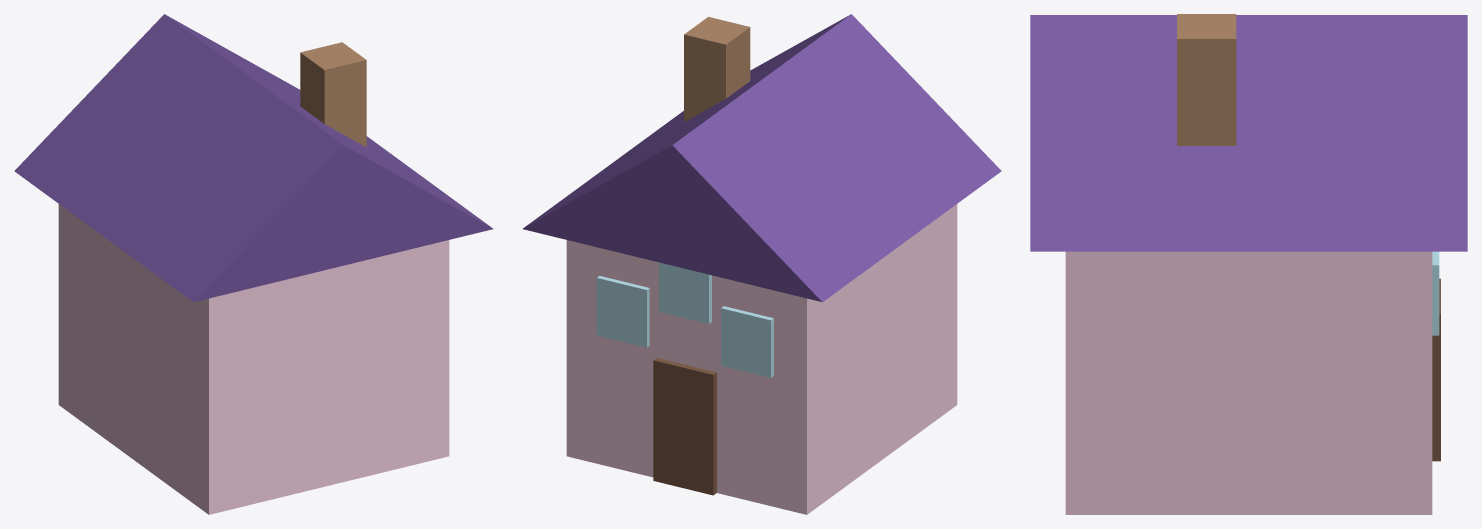
The model's file is house-c.glb.
3 renders of one model, left to right at view 1: azimuth 30°, elevation 25°; view 2: azimuth 150°, elevation 25°; view 3: azimuth 270°, elevation 25°, orthographic. The views are drawn at different scales.
Visible parts, largest first — view 1: walls, roof, chimney; view 2: roof, walls, door, chimney, winR, winL, winTop; view 3: walls, roof, chimney, door, winR.
Part boxes in pixels (x1,y1,x2,y2): walls: [58, 204, 449, 514]; roof: [14, 14, 493, 302]; chimney: [300, 42, 366, 147]; roof: [522, 14, 1001, 302]; walls: [566, 204, 957, 514]; door: [653, 358, 716, 495]; chimney: [684, 17, 750, 121]; winR: [596, 276, 649, 347]; winL: [721, 306, 773, 377]; winTop: [659, 262, 711, 323]; walls: [1065, 251, 1432, 514]; roof: [1030, 15, 1467, 251]; chimney: [1177, 14, 1236, 145]; door: [1432, 278, 1440, 461]; winR: [1432, 251, 1439, 335].
Size of the model in its own units: 3 by 3.55 by 3.1.
